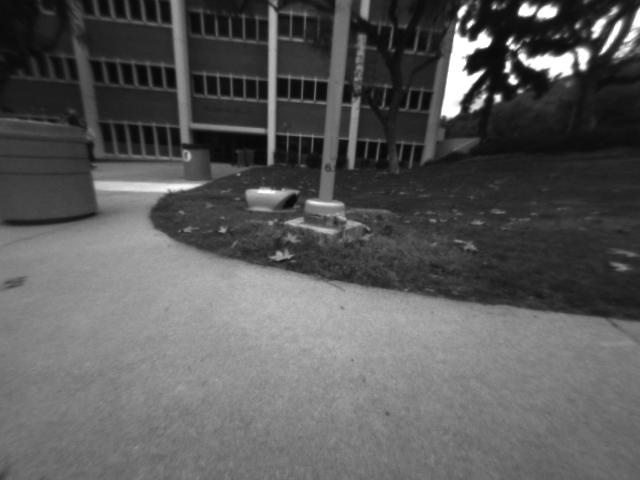trashcan: (181, 145, 213, 184)
